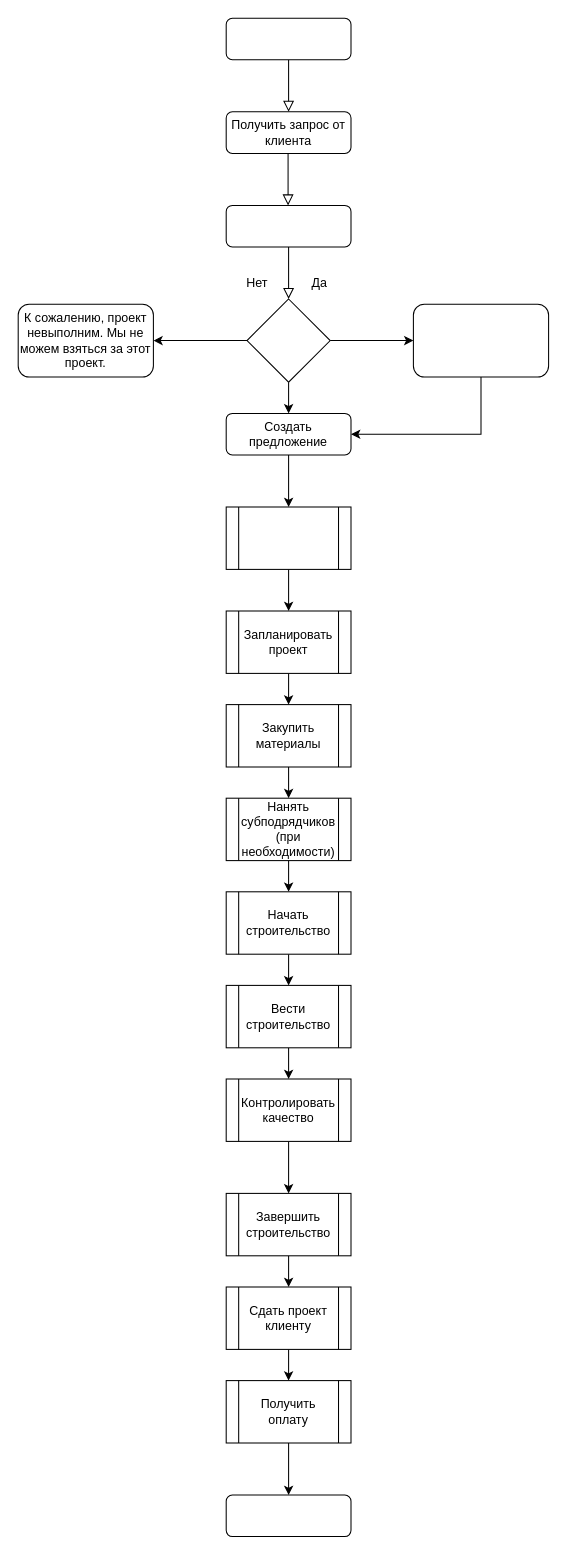
Image size: 567x1555. Some labels were removed from this diagram. The shapes that lost their labels are listed below. From the top down, each one's box as (x1, y1, x2, y2) in pixels, then its label:
(225, 17, 351, 60): Начало
(225, 204, 351, 247): Оценить проект
(246, 298, 330, 382): Проект выполним?
(412, 303, 549, 377): Проект выполним. Мы можем начать работу немедленно.
(225, 506, 351, 569): Получить одобрение клиента
(225, 1494, 351, 1537): Конец
